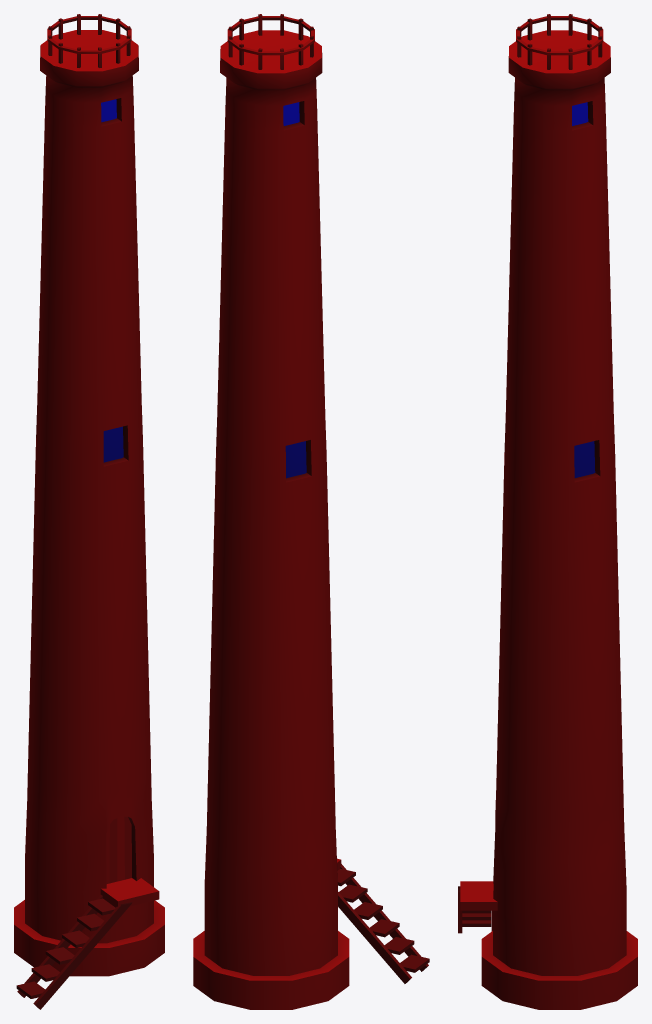
File: buildings-historical-stonetower_v1.fbx
3 renders of one model, left to right at view 1: azimuth 30°, elevation 25°; view 2: azimuth 150°, elevation 25°; view 3: azimuth 270°, elevation 25°, orthographic. The views are drawn at different scales.
Visible parts, largest first — view 1: StoneTower_base, StoneTower_refl; view 2: StoneTower_base, StoneTower_refl; view 3: StoneTower_base, StoneTower_refl.
Boxes of the visible parts, left/top/right/bottom form: StoneTower_base: left=14, top=14, right=164, bottom=1009; StoneTower_refl: left=101, top=99, right=123, bottom=462; StoneTower_base: left=193, top=14, right=429, bottom=1009; StoneTower_refl: left=283, top=102, right=306, bottom=478; StoneTower_base: left=458, top=14, right=637, bottom=1009; StoneTower_refl: left=572, top=102, right=595, bottom=477.
Size of the model in its own units: 6.32 by 32.44 by 5.56.
